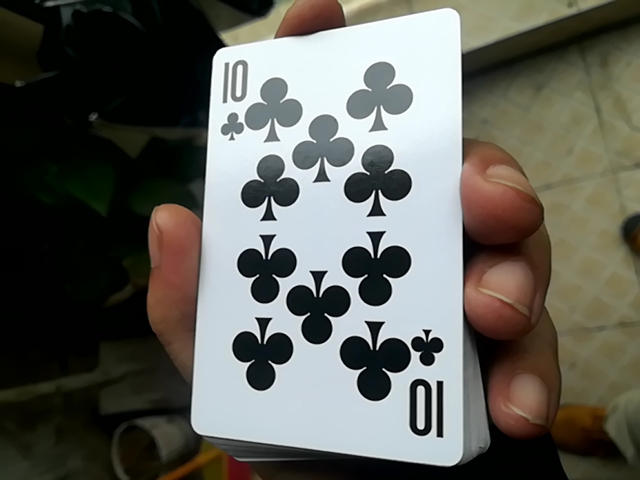mh 10: (187, 7, 460, 448)
